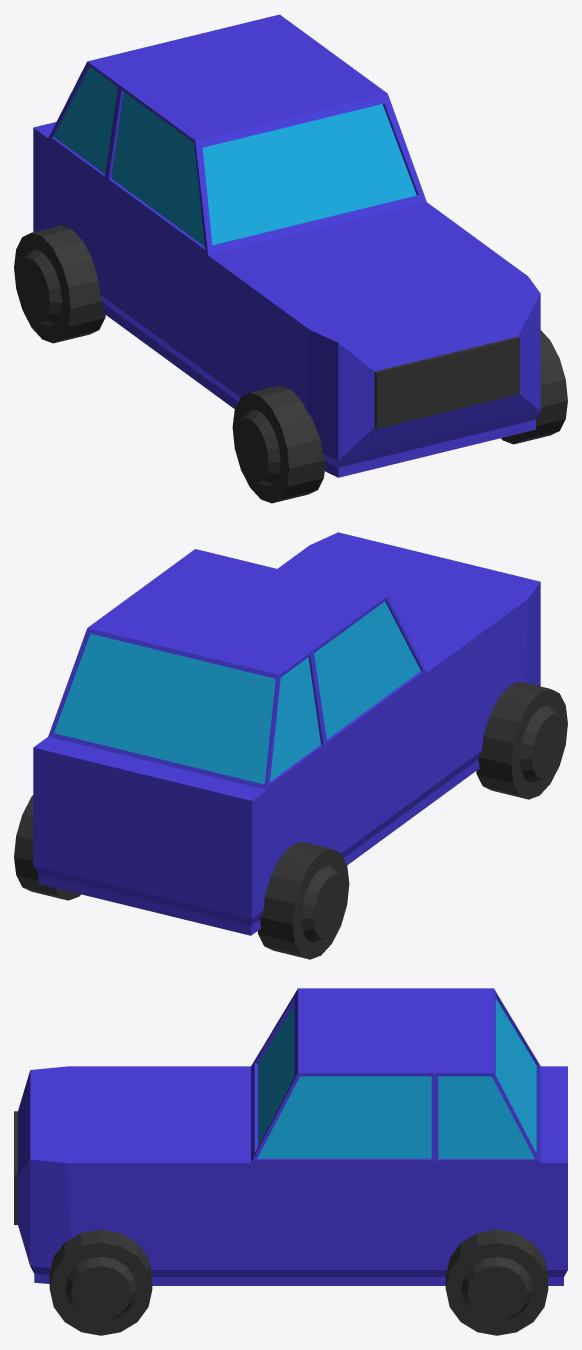
3 views of the same model, one above another, from view 1: azimuth 30°, elevation 25°; view 2: azimuth 150°, elevation 25°; view 3: azimuth 270°, elevation 25° (orthographic). The views are drawn at different scales.
Parts seen in each view (by area): view 1: Cylinder; view 2: Cylinder; view 3: Cylinder.
Boxes of the visible parts, left/top/right/bottom form: Cylinder: left=14, top=14, right=567, bottom=503; Cylinder: left=14, top=532, right=567, bottom=959; Cylinder: left=14, top=988, right=567, bottom=1335.
Bounding box in the file's own units: 115 × 99.92 × 206.
